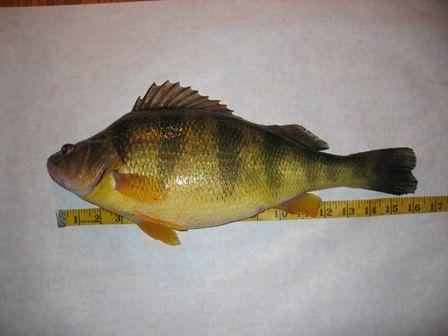Perch: (48, 81, 418, 248)
